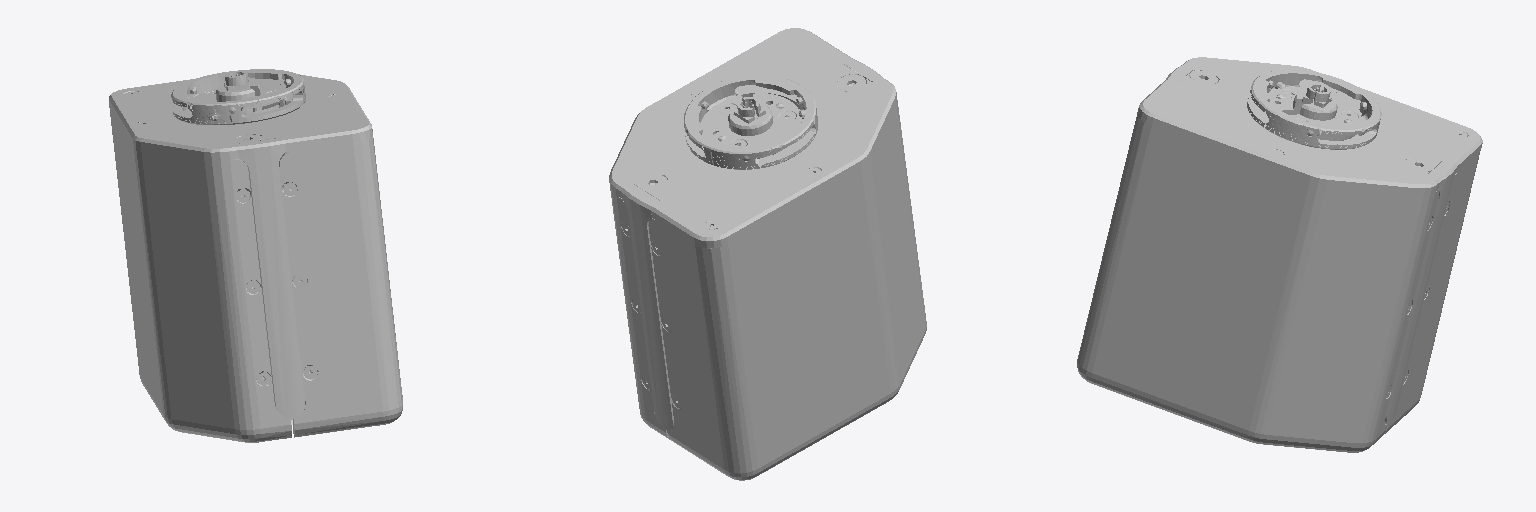
File: gripper_link.obj
3 renders of one model, left to right at view 1: azimuth 30°, elevation 25°; view 2: azimuth 150°, elevation 25°; view 3: azimuth 270°, elevation 25°, orthographic.
Visible parts, largest first — view 1: gripper_link; view 2: gripper_link; view 3: gripper_link.
Boxes of the visible parts, x1,y1,x2,y2 form: gripper_link: [109, 69, 402, 442]; gripper_link: [609, 28, 926, 480]; gripper_link: [1077, 57, 1482, 452].
Bounding box in the file's own units: 0.0852 × 0.1259 × 0.1368.